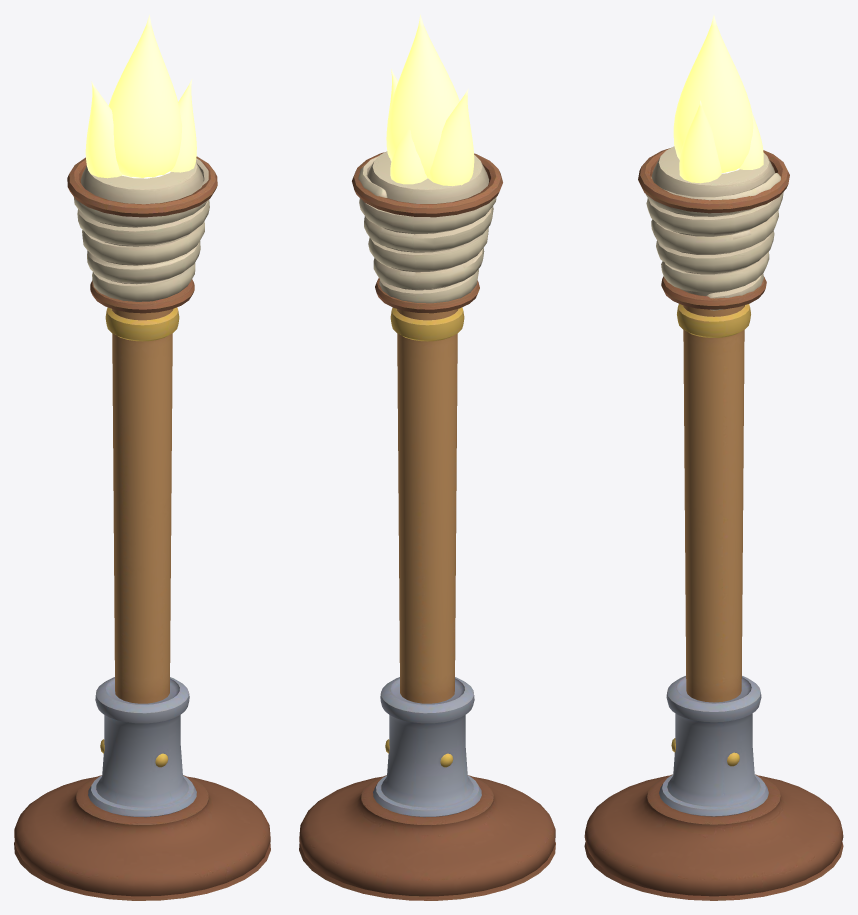
The model's file is antorcha.glb.
The picture shows the model from 3 angles, left to right: view 1: azimuth 30°, elevation 25°; view 2: azimuth 150°, elevation 25°; view 3: azimuth 270°, elevation 25°; orthographic projection.
Visible parts, largest first — view 1: torch_body; view 2: torch_body; view 3: torch_body.
Boxes of the visible parts, <box> form: torch_body: <box>14,14,270,900</box>; torch_body: <box>299,14,555,900</box>; torch_body: <box>584,15,843,900</box>.
Bounding box in the file's own units: 0.1546 × 0.5522 × 0.1546.
6 materials, 1 textured.
